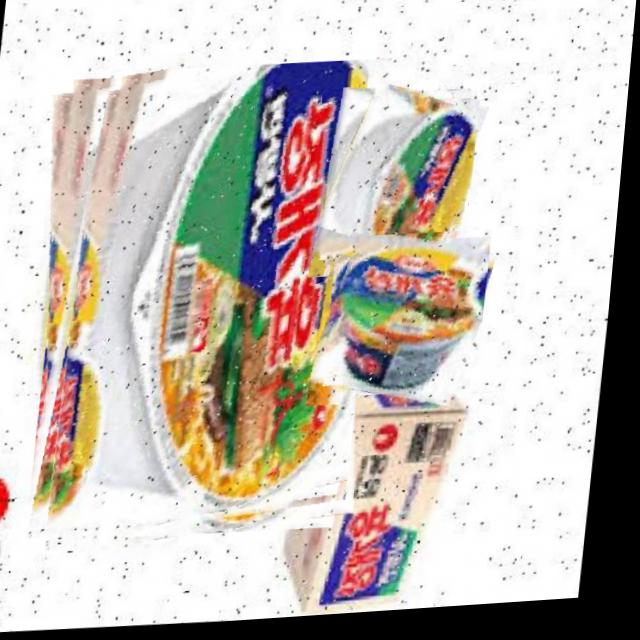Miscellaneous: (23, 57, 394, 556), (314, 84, 484, 284), (313, 232, 497, 412)
